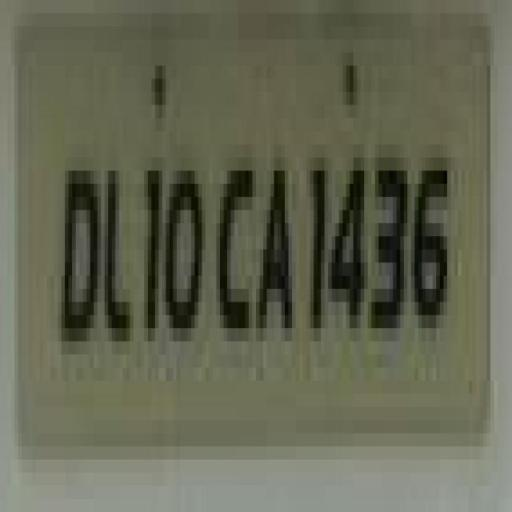number plate: (2, 13, 482, 460)
